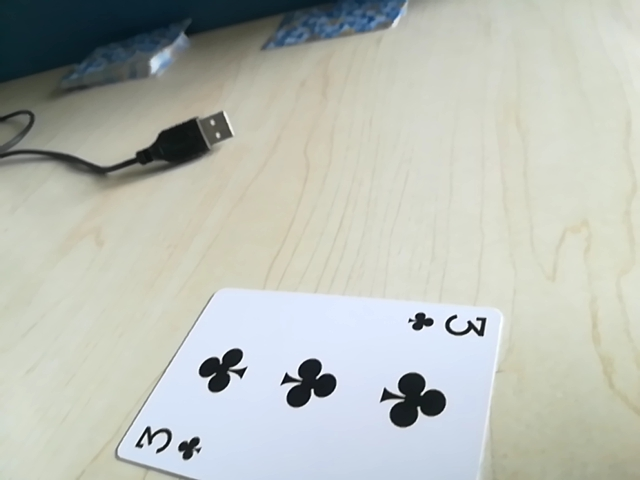mh 3: (123, 425, 206, 463), (405, 306, 491, 342)
